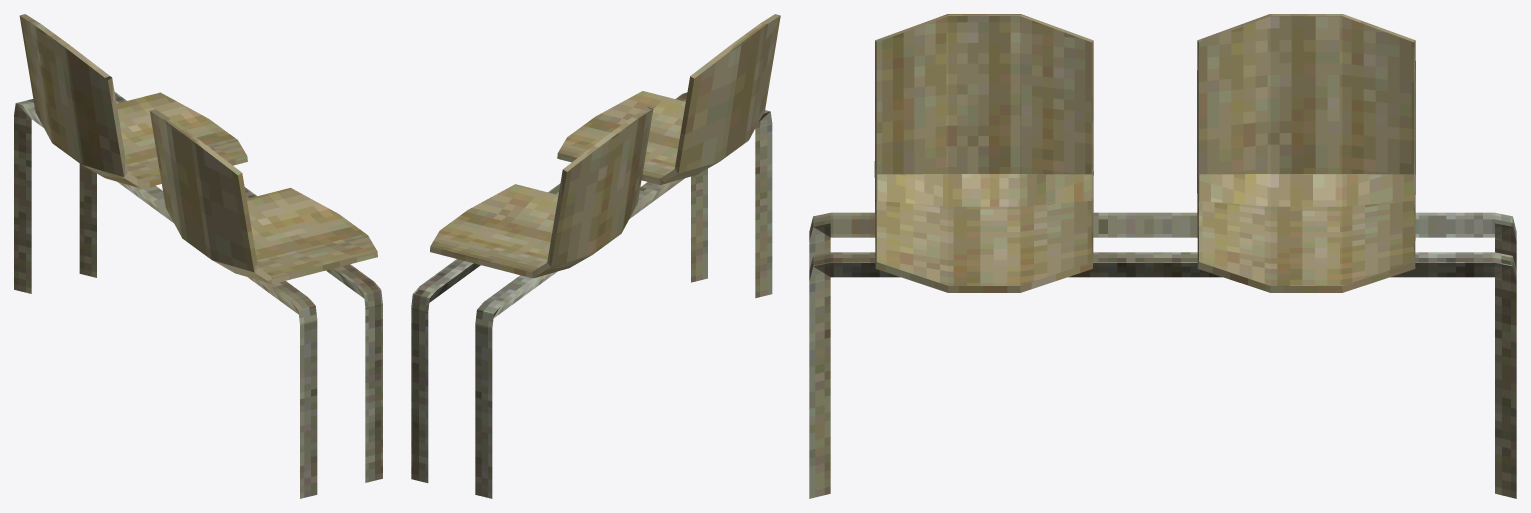
The model's file is busstop_two_seats_alt2.glb.
3 views of the same model, side by side, from view 1: azimuth 30°, elevation 25°; view 2: azimuth 150°, elevation 25°; view 3: azimuth 270°, elevation 25° (orthographic). The views are drawn at different scales.
Parts seen in each view (by area): view 1: busstop_two_seats_alt2; view 2: busstop_two_seats_alt2; view 3: busstop_two_seats_alt2.
Part boxes in pixels (x1=…): busstop_two_seats_alt2: x1=14, y1=14, x2=382, y2=498; busstop_two_seats_alt2: x1=411, y1=14, x2=780, y2=498; busstop_two_seats_alt2: x1=809, y1=14, x2=1516, y2=498.
Size of the model in its own units: 0.692 by 1.25 by 1.98.
Materials: 1 (1 with a texture image).
